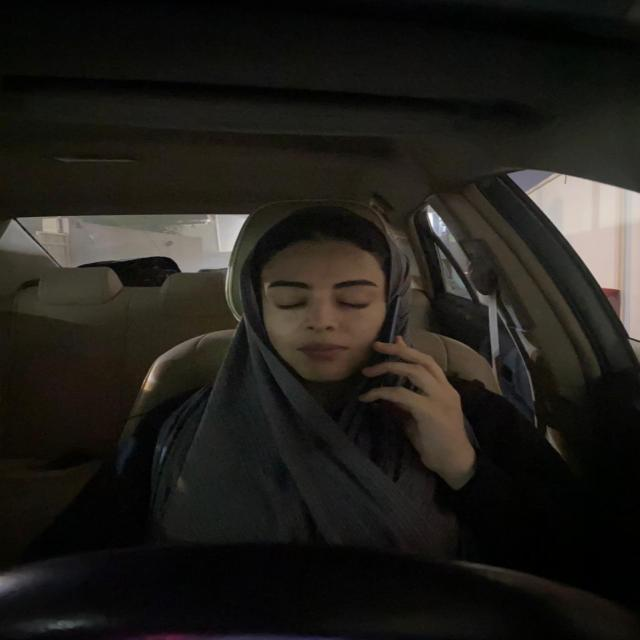mobile: (376, 289, 422, 419)
person: (251, 215, 388, 385)
